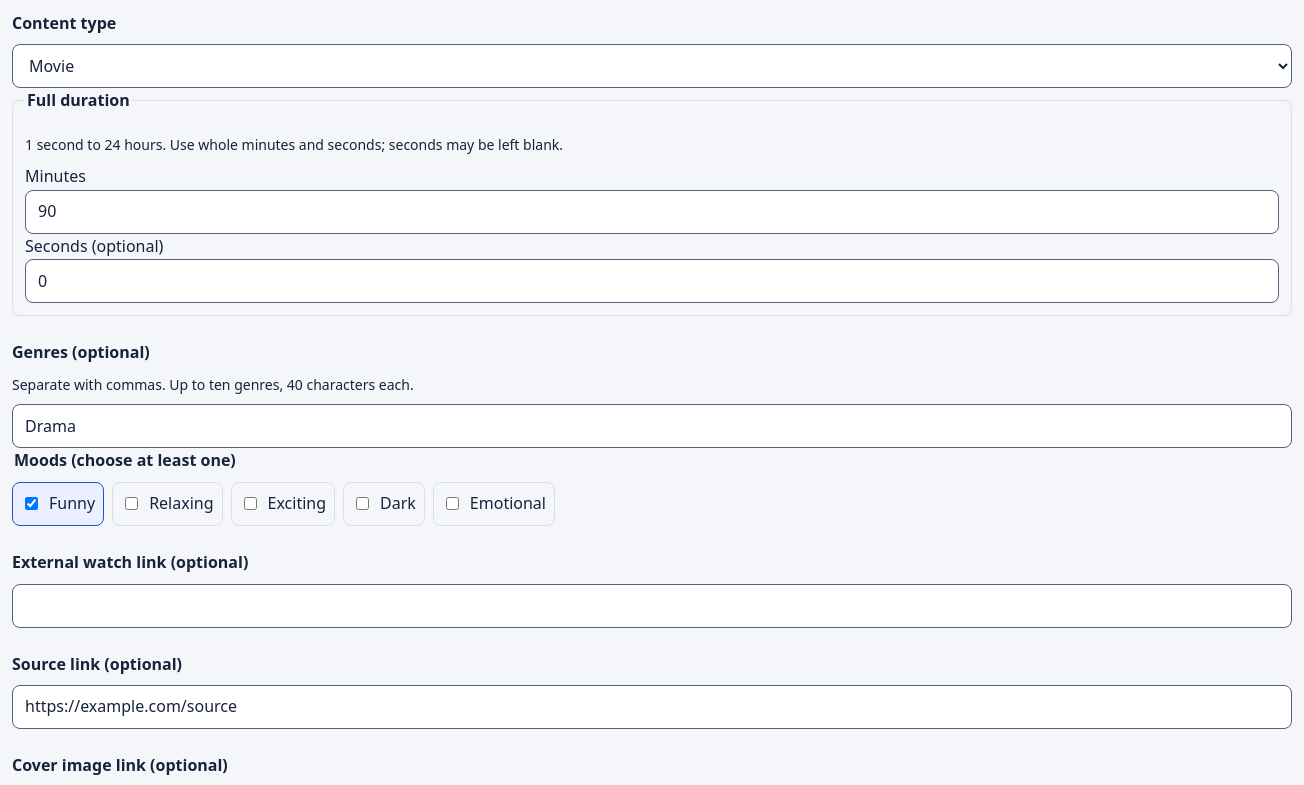
Test case: preloads reused metadata fields, retains attempted values on stale conflict and provides real reload/cancel
Expected: the field labelled "Source link (optional)" holds "https://example.com/source", [12, 685, 1292, 729]
Replace the text in the field labelled "Minutes" with "60" at (652, 212), box [25, 190, 1279, 234]
(page scrolled)
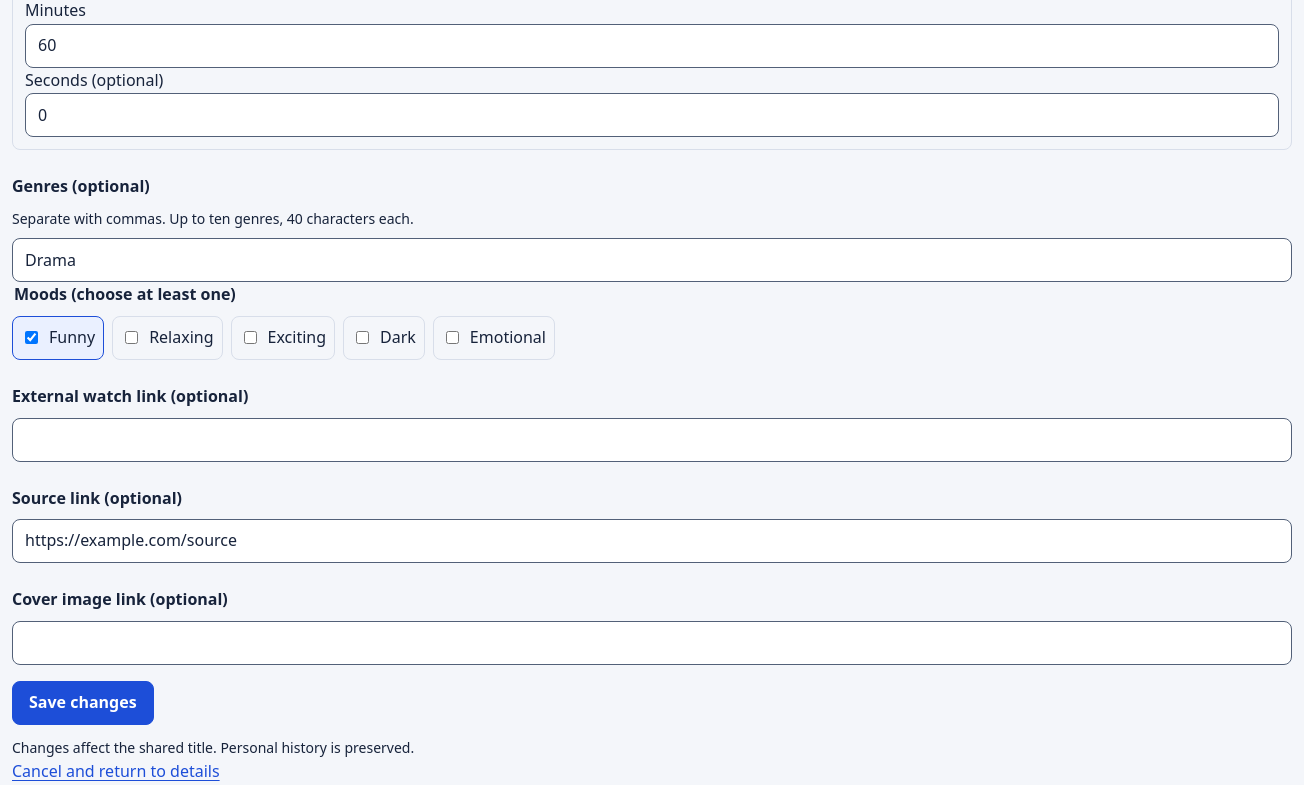
Click the button "Save changes" at (83, 703), box [12, 681, 154, 725]
(page scrolled)
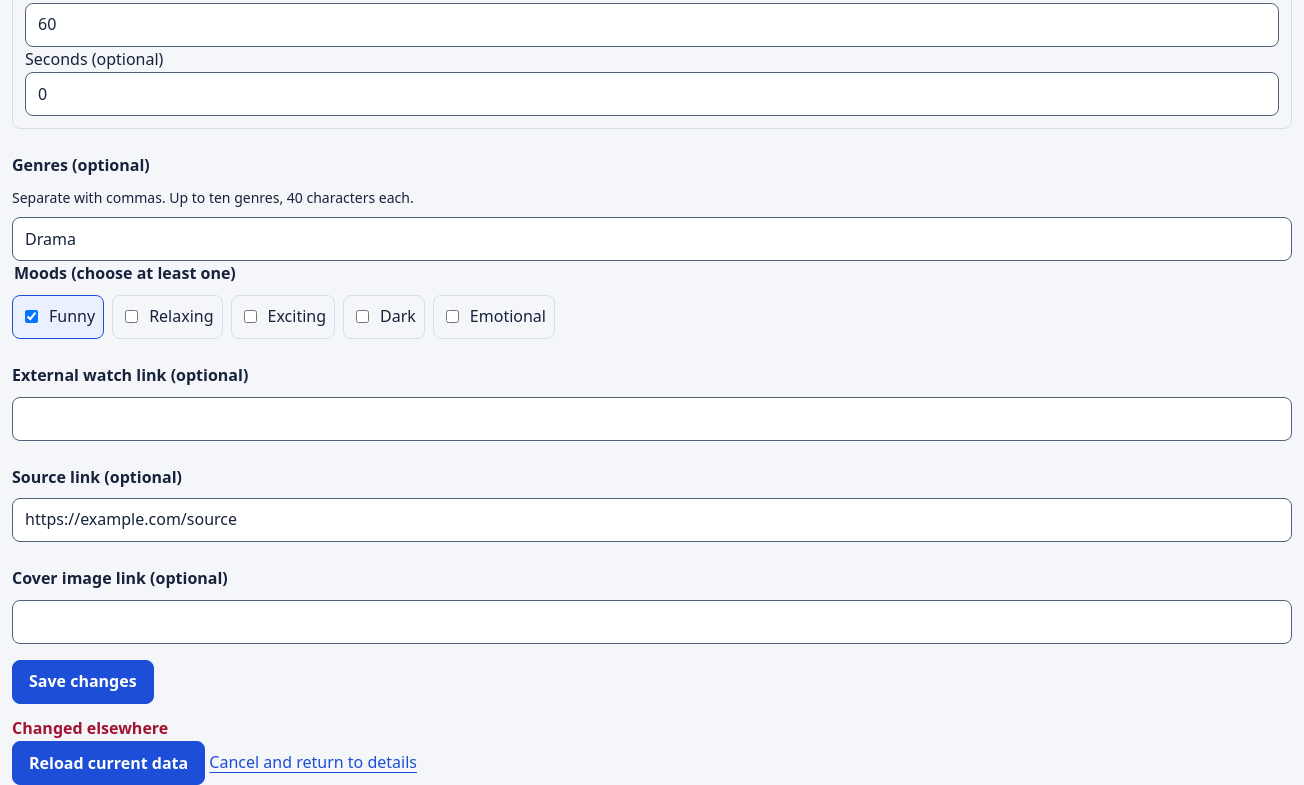
Expected: the checkbox labelled "Funny" is checked, [25, 310, 38, 323]
Expected: the text "Changed elsewhere" is shown, [12, 717, 168, 739]
